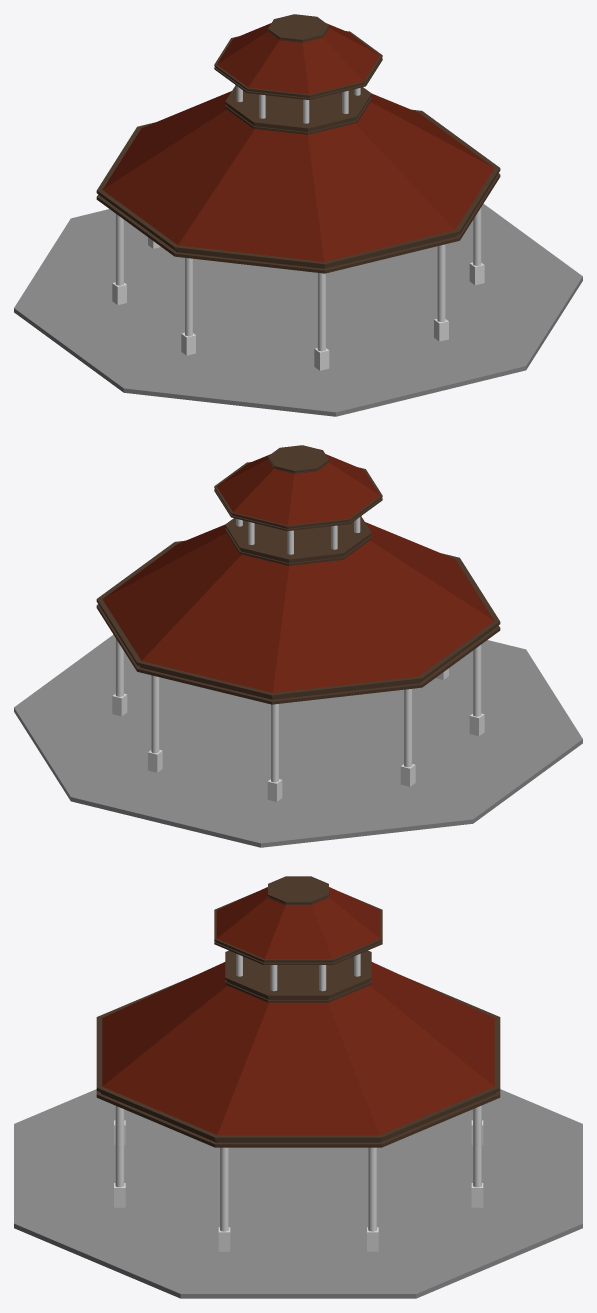
Rendered from Keso Main.fbx.
3 renders of one model, top to bottom at view 1: azimuth 30°, elevation 25°; view 2: azimuth 150°, elevation 25°; view 3: azimuth 270°, elevation 25°, orthographic. The views are drawn at different scales.
Parts seen in each view (by area): view 1: Floor, Roof, Detail, Pillar 2, Pillar 1; view 2: Floor, Roof, Detail, Pillar 2, Pillar 1; view 3: Floor, Roof, Detail, Pillar 2, Pillar 1.
Boxes of the visible parts, x1,y1,x2,y2 form: Floor: (14, 203, 582, 416); Roof: (102, 23, 494, 261); Detail: (96, 14, 500, 273); Pillar 2: (115, 86, 481, 351); Pillar 1: (112, 237, 484, 370); Floor: (14, 634, 582, 847); Roof: (102, 454, 494, 692); Detail: (96, 445, 500, 704); Pillar 2: (115, 517, 481, 782); Pillar 1: (112, 668, 484, 801); Floor: (14, 1089, 582, 1298); Roof: (102, 887, 494, 1135); Detail: (96, 876, 500, 1147); Pillar 2: (115, 953, 481, 1231); Pillar 1: (114, 1120, 483, 1251).
Size of the model in its own units: 1890 by 1060 by 1890.
